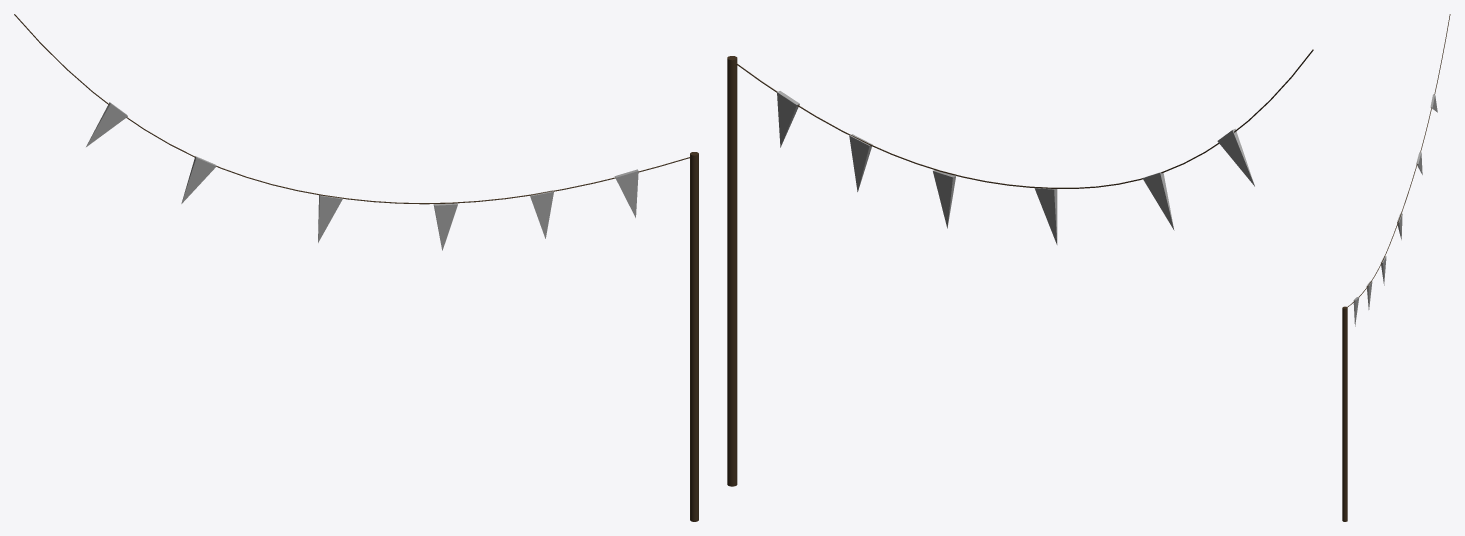
The model's file is StringFlags.fbx.
The picture shows the model from 3 angles, left to right: view 1: azimuth 30°, elevation 25°; view 2: azimuth 150°, elevation 25°; view 3: azimuth 270°, elevation 25°; orthographic projection. The views are drawn at different scales.
Parts seen in each view (by area): view 1: Pole, String; view 2: Pole, String, Flag2, Flag, Flag5, Flag1, Flag3, Flag4; view 3: Pole, String.
Part boxes in pixels (x1,y1,x2,y2): Pole: [690, 152, 698, 521]; String: [14, 14, 689, 204]; Pole: [727, 56, 737, 486]; String: [736, 49, 1313, 188]; Flag2: [1034, 187, 1057, 244]; Flag: [1217, 128, 1254, 186]; Flag5: [777, 91, 799, 147]; Flag1: [1142, 171, 1174, 230]; Flag3: [933, 170, 955, 228]; Flag4: [849, 134, 872, 191]; Pole: [1342, 306, 1347, 521]; String: [1347, 14, 1450, 307].
Size of the model in its own units: 1225 by 1151 by 332.
